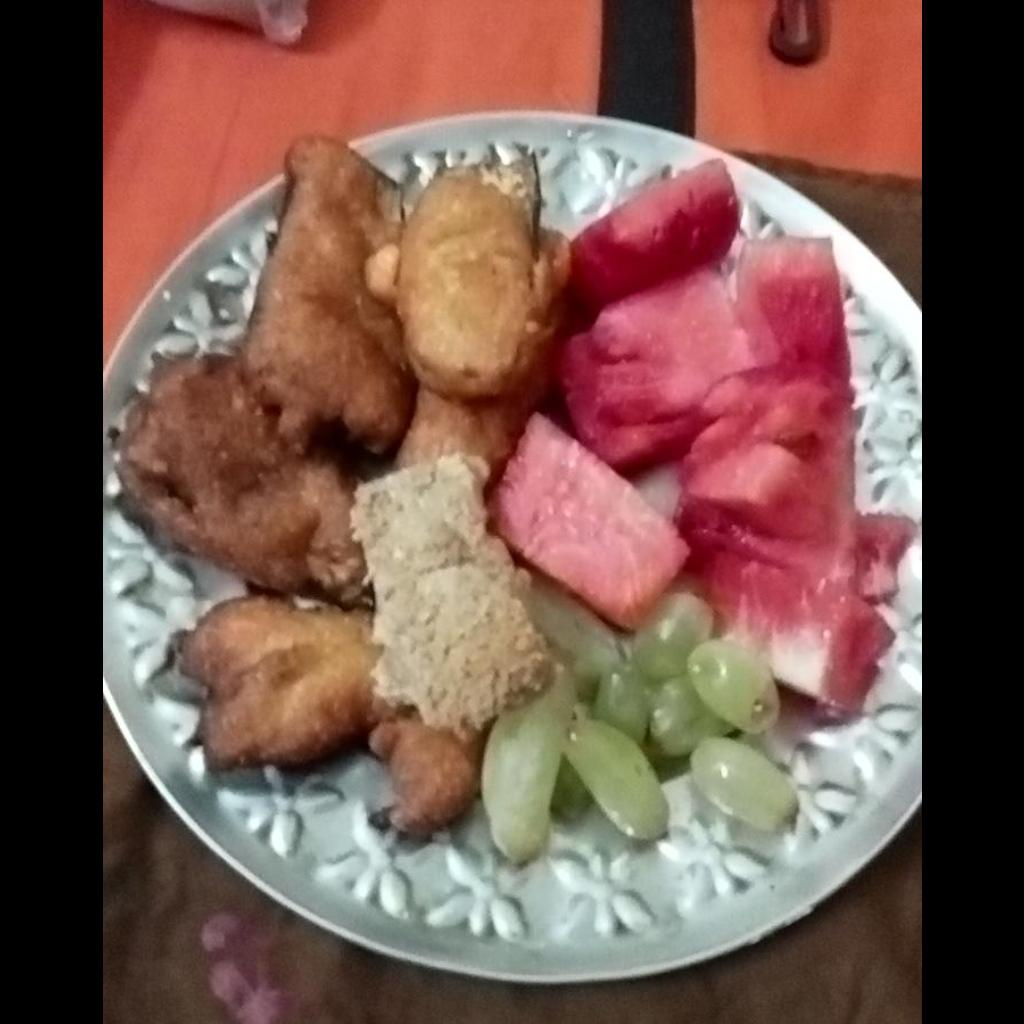beguni: (110, 141, 566, 830)
grapes: (487, 600, 797, 858)
sweets: (367, 459, 540, 723)
watermelon: (495, 156, 912, 709)
